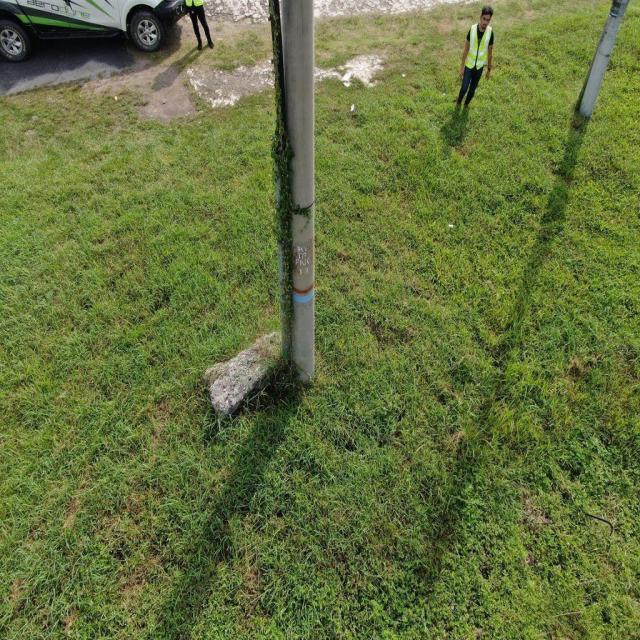critical vegetation: (260, 18, 321, 380)
